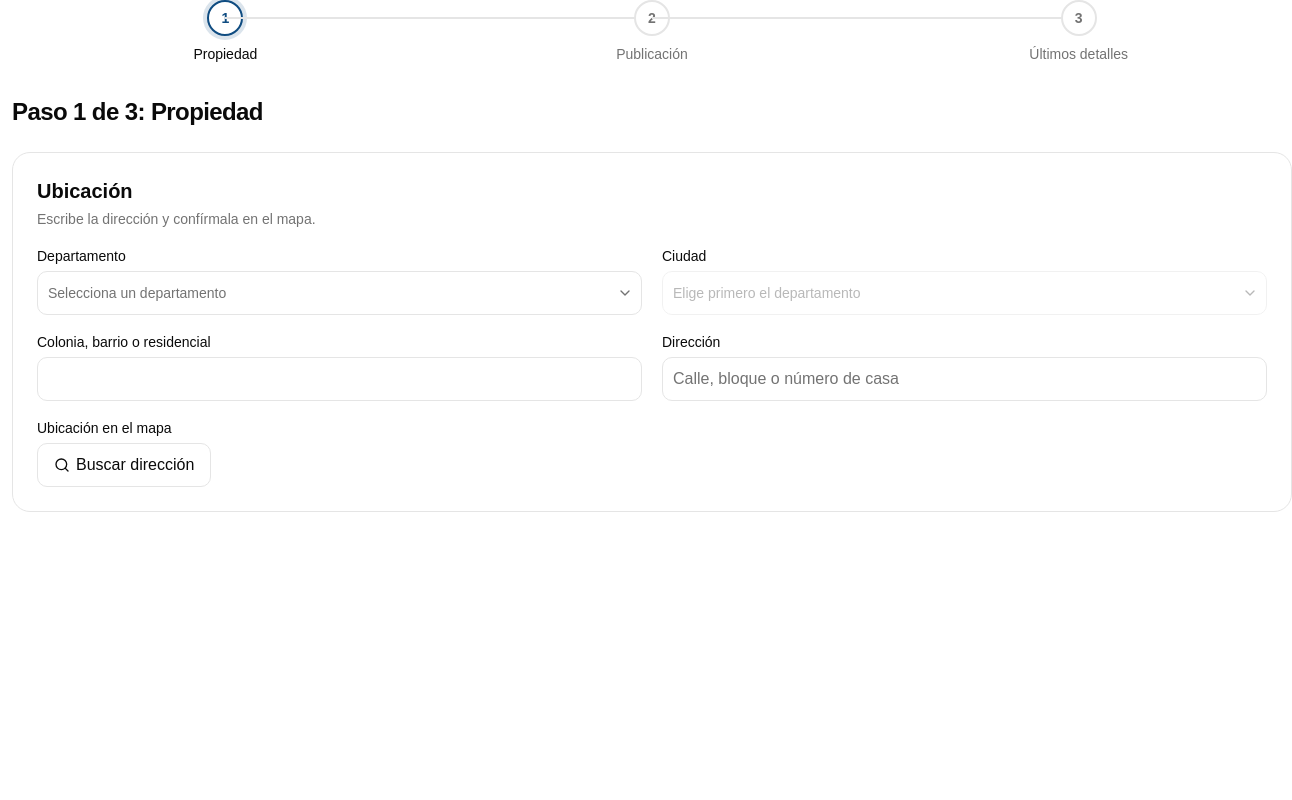
Test case: PropertyForm › al elegir el departamento ofrece como ciudades sus municipios
Step 1. Click the dropdown labelled "departamento" → (137, 293), box [37,271,642,315]
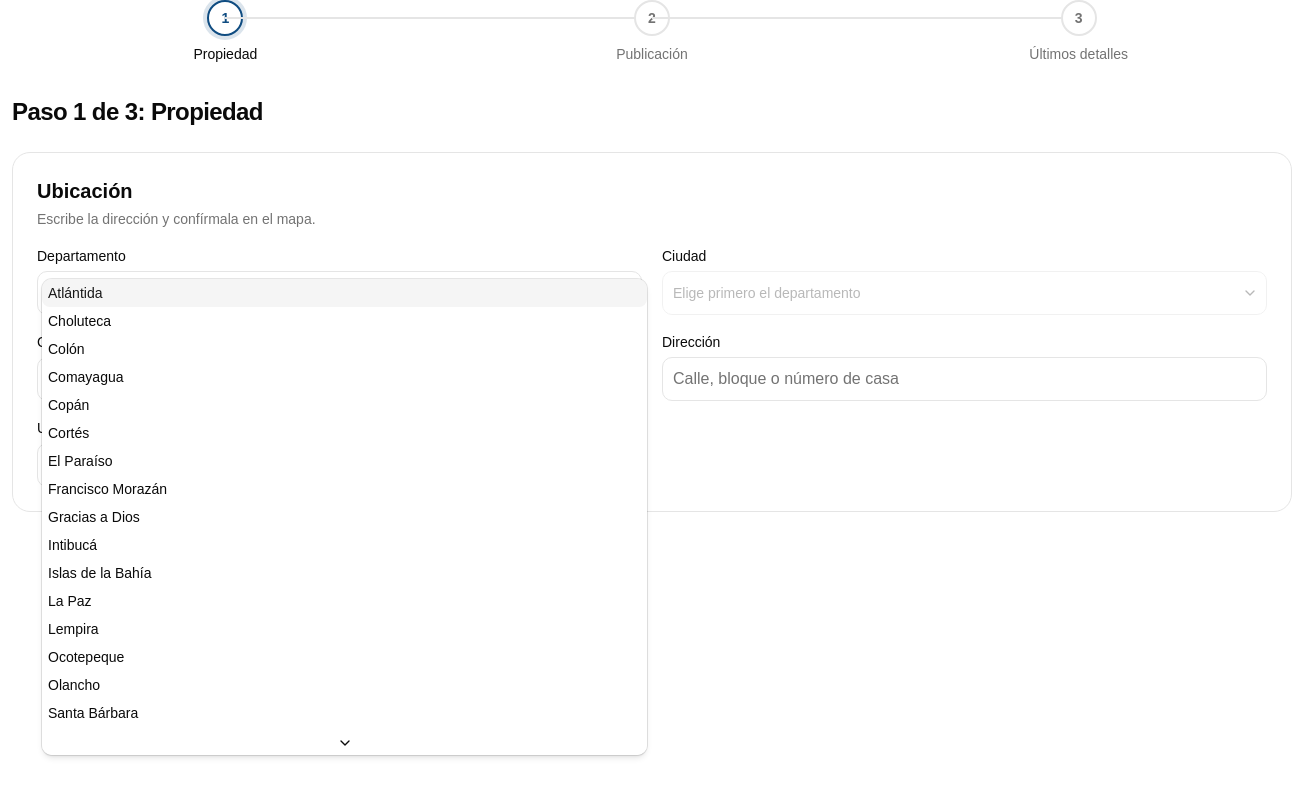
Step 2. Click the option "Cortés" → (69, 433), box [48,425,89,441]
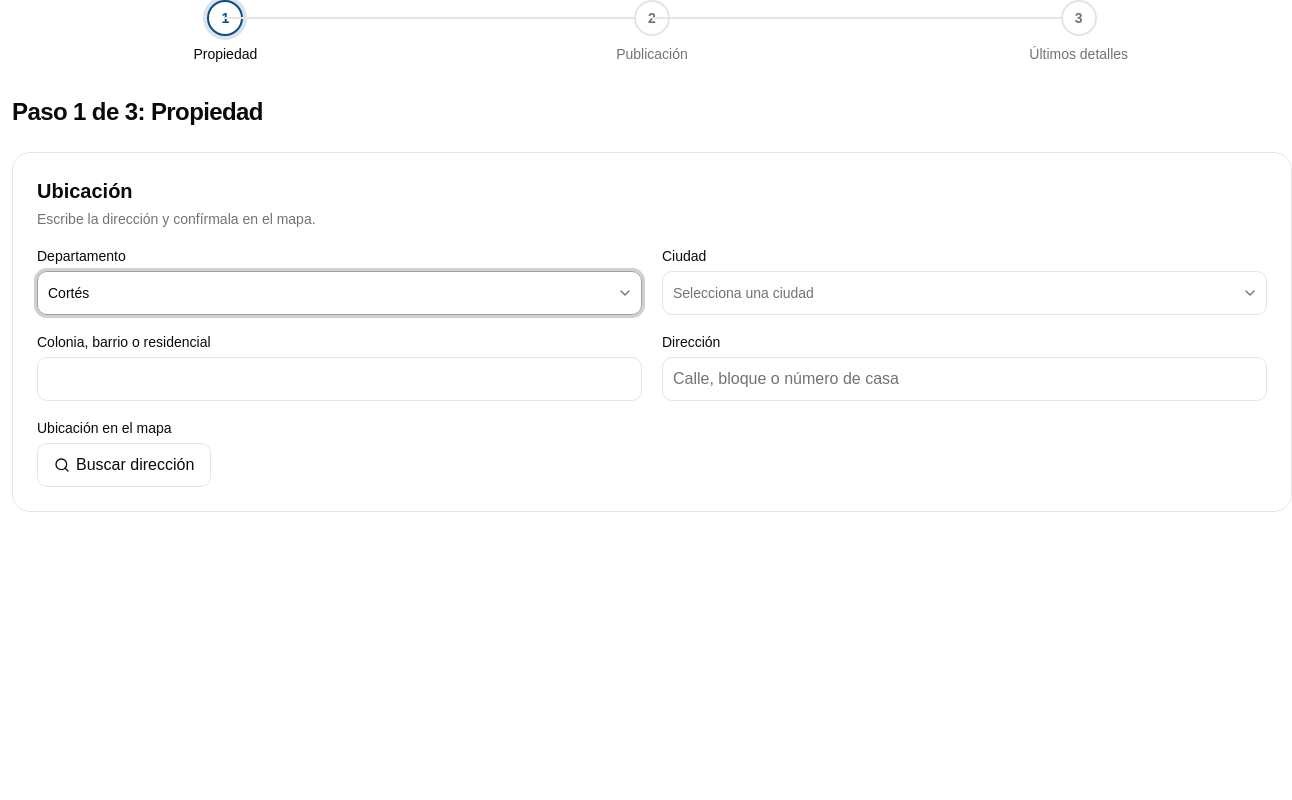
Step 3. Click the dropdown labelled "ciudad" → (743, 293), box [662,271,1267,315]
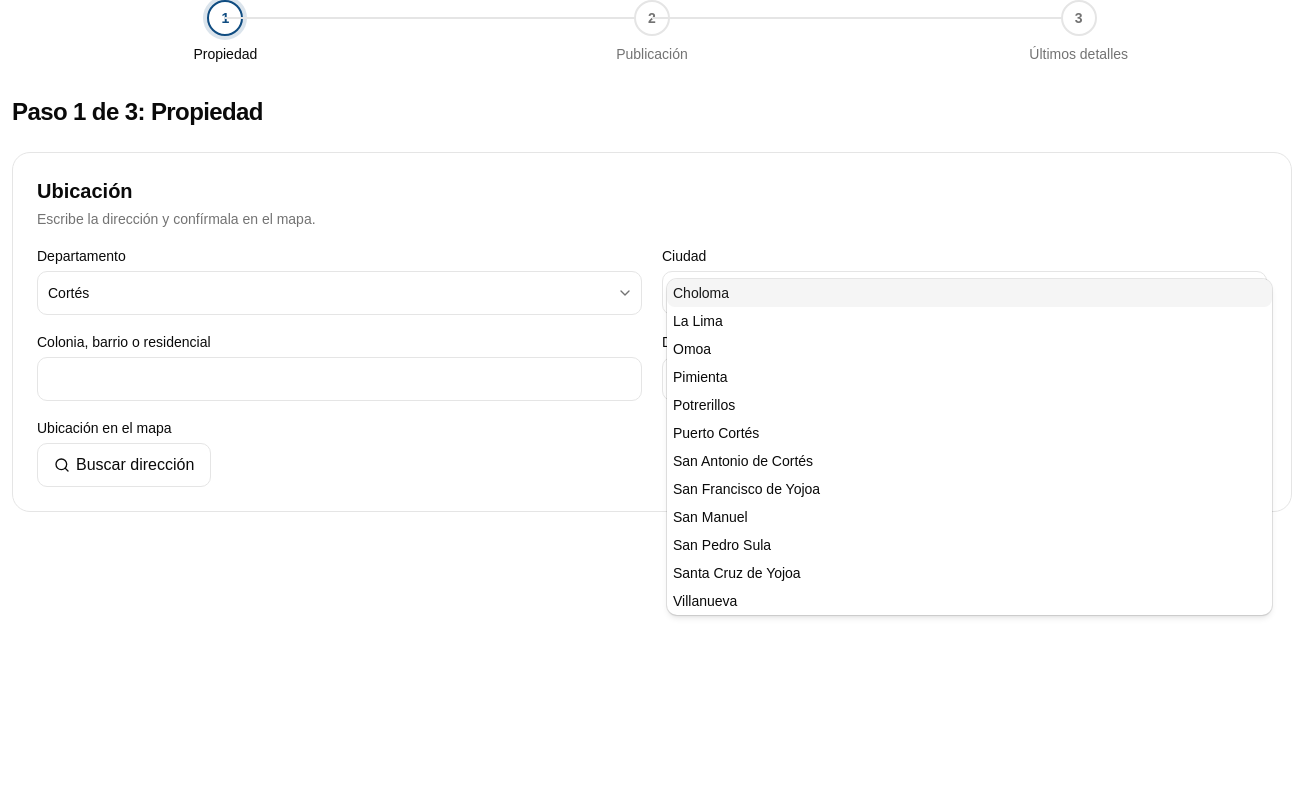
expect the number of options is 12: met
expect the text "San Pedro Sula" is shown: met, box [673,537,771,553]
